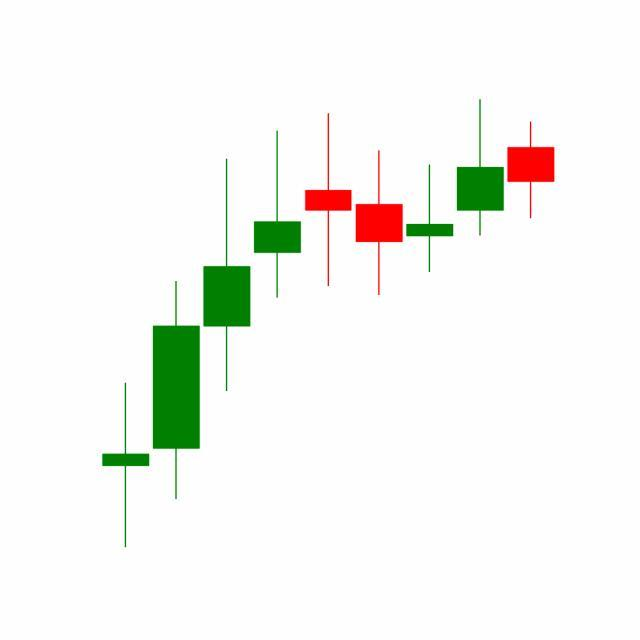Hikkake Pattern: (252, 99, 506, 302)
